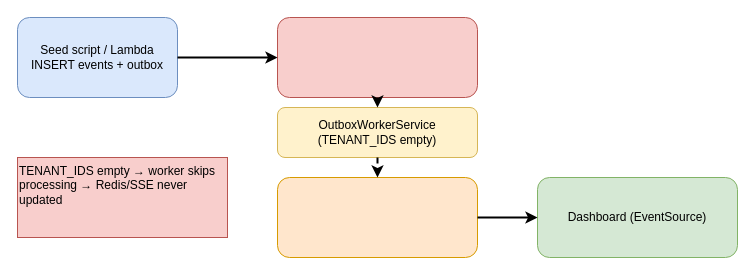
The diagram is 755 pixels wide and 275 high, and some of its shapes have lost their labels. Here are the shapes that lost their labels. From the top down, the centre of each, then its label:
At [377,57]: "Outbox table (tenant_id, event_id, ...)".
At [377,217]: "Redis Streams stream:events:{tenant}".
